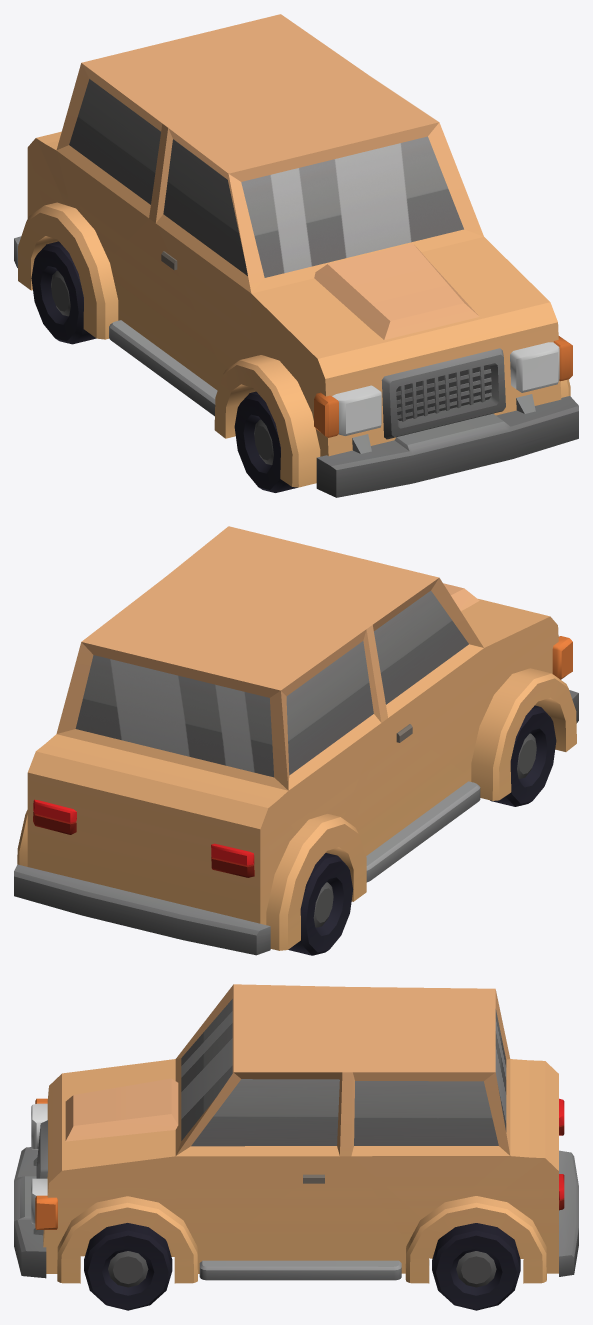
The model's file is Car_3_8.fbx.
3 views of the same model, one above another, from view 1: azimuth 30°, elevation 25°; view 2: azimuth 150°, elevation 25°; view 3: azimuth 270°, elevation 25° (orthographic). The views are drawn at different scales.
Visible parts, largest first — view 1: Car_3_8, Wheel_Br, Wheel_Fr; view 2: Car_3_8, Wheel_Br, Wheel_Fr; view 3: Car_3_8, Wheel_Bl, Wheel_Fl.
Part boxes in pixels (box(x1,y1,x2,y2)): Car_3_8: box(14, 14, 578, 497); Wheel_Br: box(31, 241, 96, 344); Wheel_Fr: box(234, 391, 297, 492); Car_3_8: box(14, 526, 578, 955); Wheel_Br: box(288, 853, 353, 955); Wheel_Fr: box(490, 705, 556, 806); Car_3_8: box(14, 984, 578, 1283); Wheel_Bl: box(432, 1223, 520, 1310); Wheel_Fl: box(84, 1223, 172, 1310).
Bounding box in the file's own units: 113 × 102 × 230.
